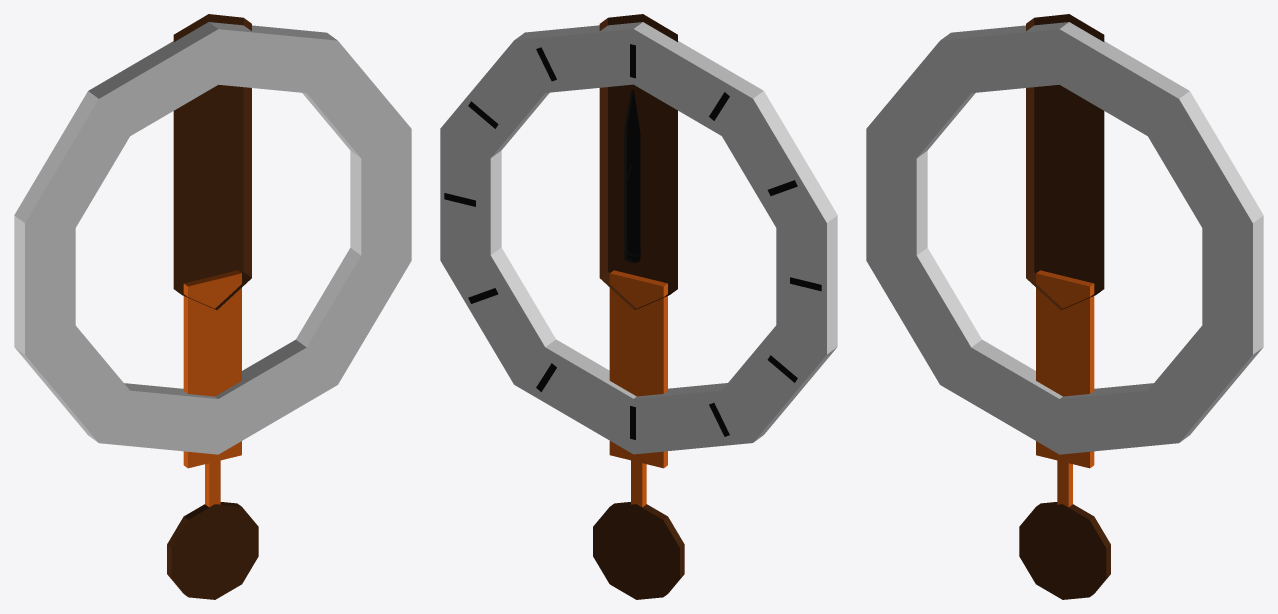
File: Wall Clock 3.fbx
3 renders of one model, left to right at view 1: azimuth 30°, elevation 25°; view 2: azimuth 150°, elevation 25°; view 3: azimuth 330°, elevation 25°, orthographic.
Visible parts, largest first — view 1: Node 0; view 2: Node 0, Node 1; view 3: Node 0.
Boxes of the visible parts, x1,y1,x2,y2 form: Node 0: [14, 14, 411, 599]; Node 0: [440, 14, 837, 599]; Node 1: [624, 89, 640, 262]; Node 0: [866, 14, 1263, 599].
Size of the model in its own units: 0.0408 by 0.9458 by 0.6587.
